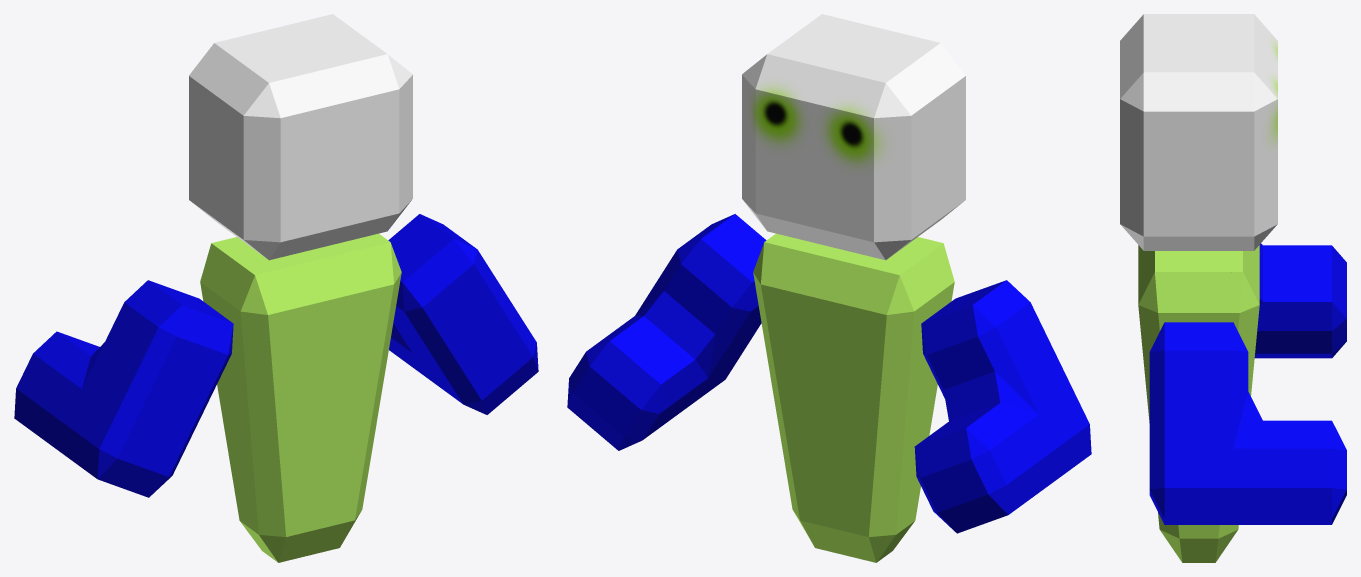
The model's file is Player.gltf.
3 views of the same model, side by side, from view 1: azimuth 30°, elevation 25°; view 2: azimuth 150°, elevation 25°; view 3: azimuth 270°, elevation 25° (orthographic).
Parts seen in each view (by area): view 1: Cube.003; view 2: Cube.003; view 3: Cube.003.
Boxes of the visible parts, bbox=[...] form: Cube.003: bbox=[14, 14, 538, 562]; Cube.003: bbox=[567, 14, 1091, 562]; Cube.003: bbox=[1120, 14, 1346, 562].
Size of the model in its own units: 2.6 by 2.83 by 1.15.
Materials: 1 (1 with a texture image).
